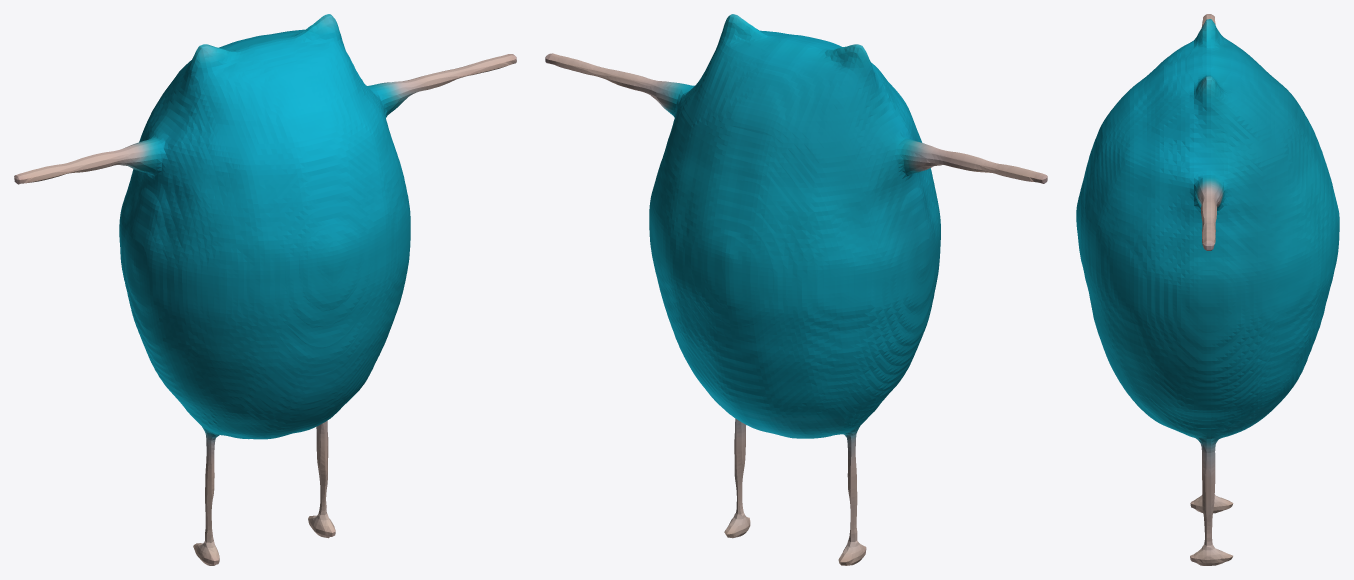
Rendered from asset.gltf.
The picture shows the model from 3 angles, left to right: view 1: azimuth 30°, elevation 25°; view 2: azimuth 150°, elevation 25°; view 3: azimuth 270°, elevation 25°; orthographic projection. The views are drawn at different scales.
Parts seen in each view (by area): view 1: tmpn04fnfanply; view 2: tmpn04fnfanply; view 3: tmpn04fnfanply.
Boxes of the visible parts, box(x1,y1,x2,y2) form: tmpn04fnfanply: box(14, 14, 516, 565); tmpn04fnfanply: box(545, 14, 1047, 565); tmpn04fnfanply: box(1076, 14, 1339, 565).
Size of the model in its own units: 1.98 by 1.96 by 0.9551.
